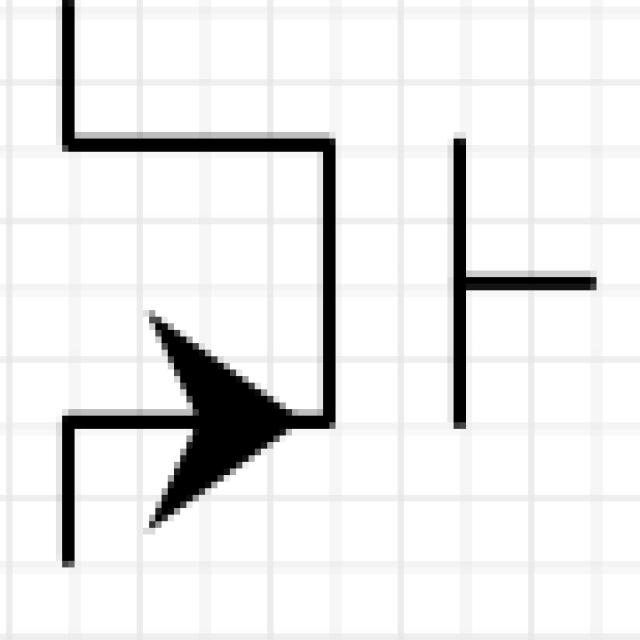pmos: (6, 6, 640, 594)
